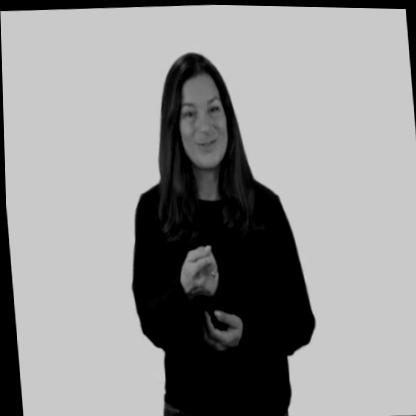HowAreYou: (166, 218, 254, 370)
